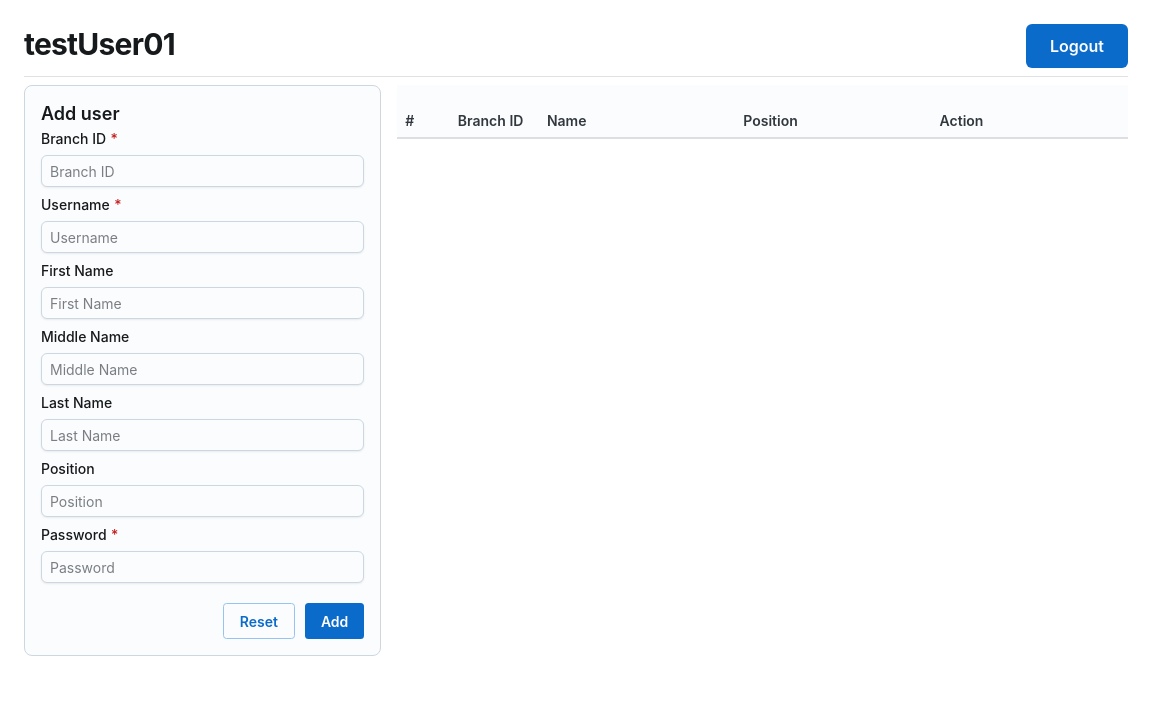
Test: <Dashboard /> › resetFields() › clear all fields
In the number field named "branchId": (203, 171) [50,156,355,186], type "20001"
In the field labelled "Username": (203, 237) [50,222,355,252], type "testuser201"
In the field named "firstName": (203, 303) [50,288,355,318], type "Jessa"
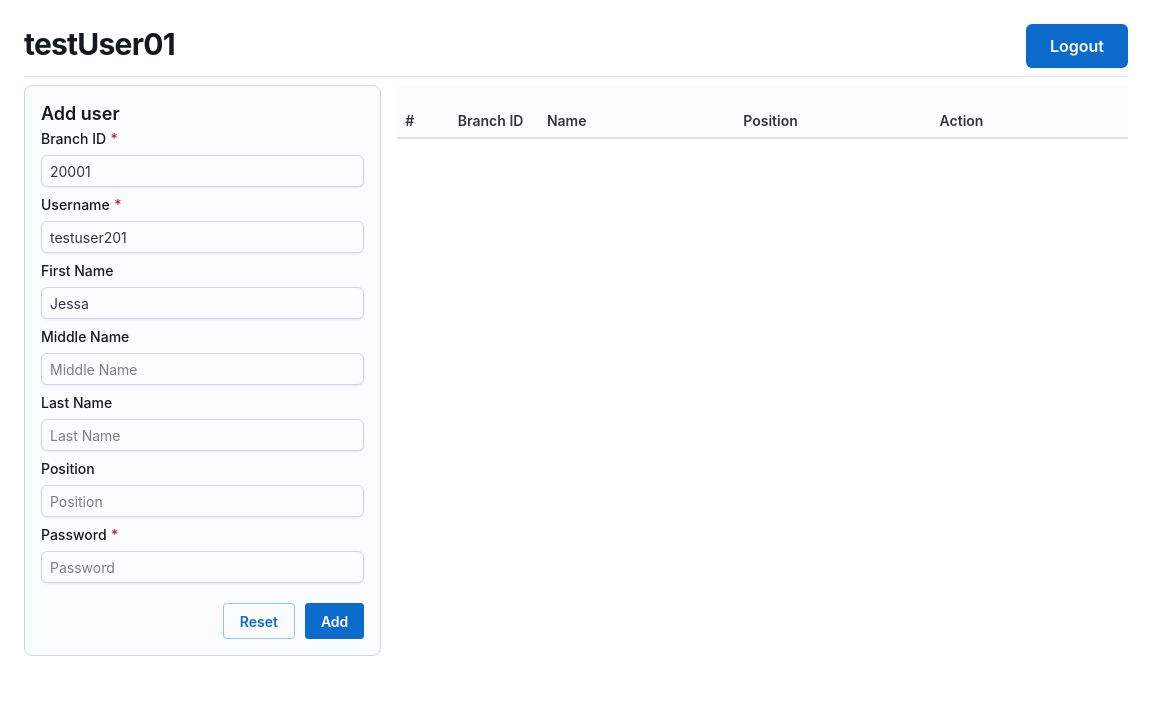
In the field named "middleName": (203, 369) [50,354,355,384], type "C"
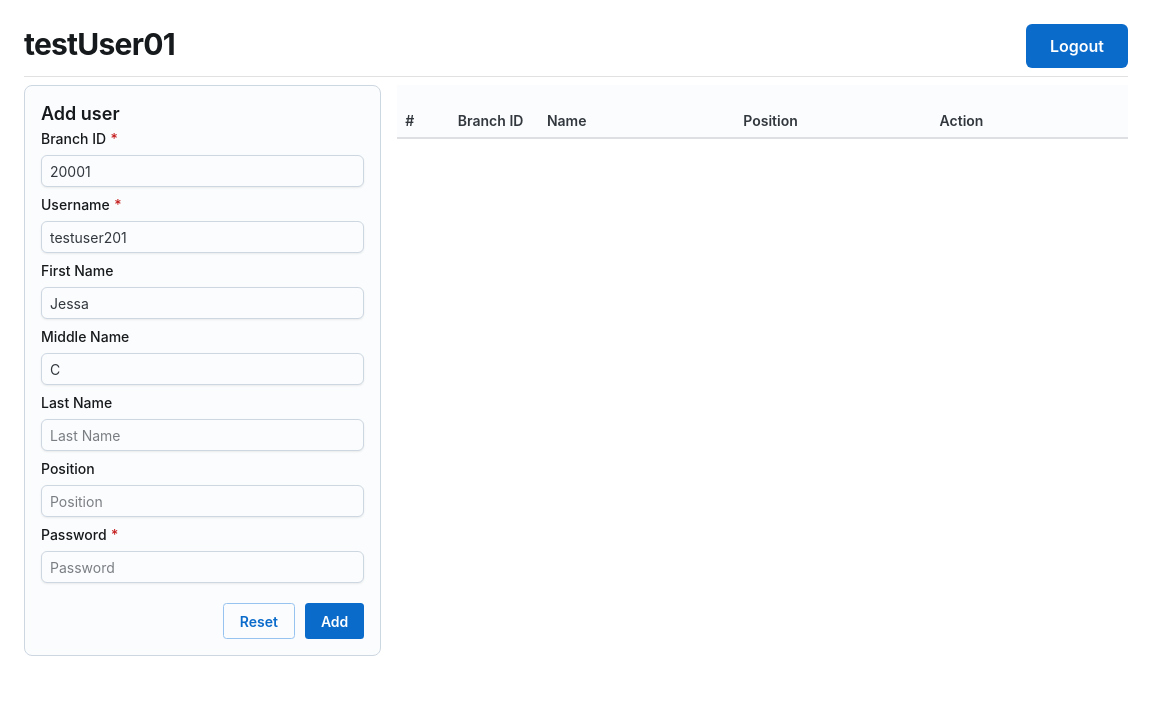
In the field named "lastName": (203, 435) [50,420,355,450], type "Meek"
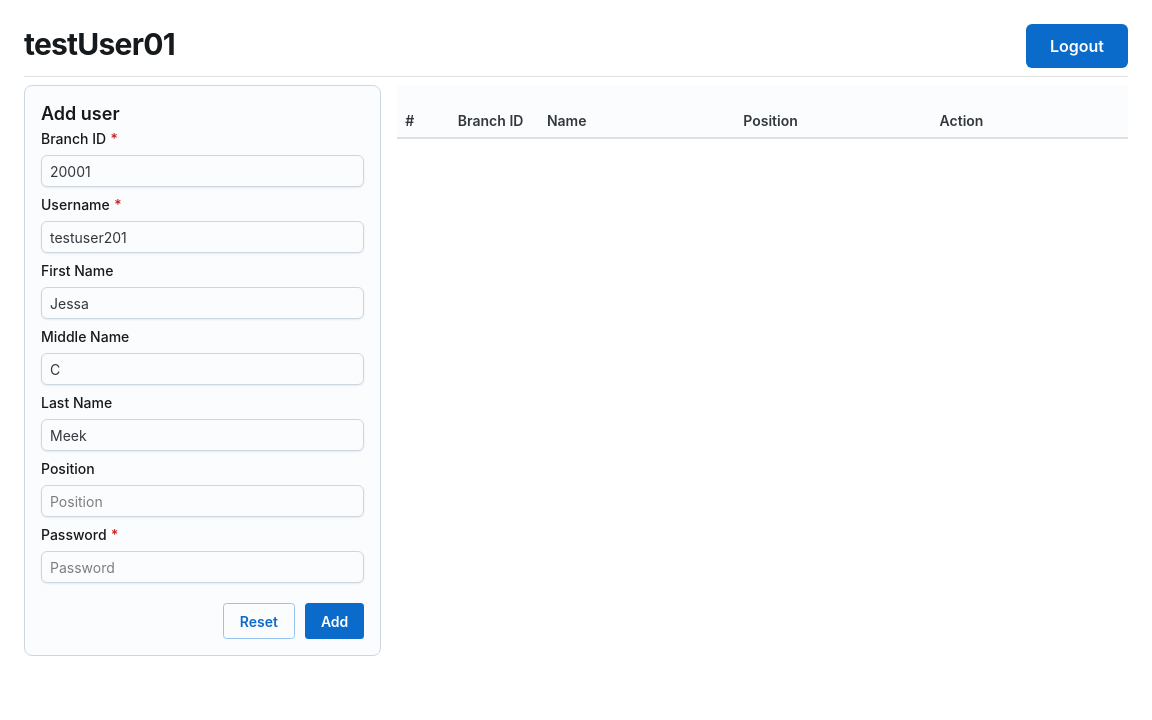
In the field labelled "Position": (203, 501) [50,486,355,516], type "Software Tester"
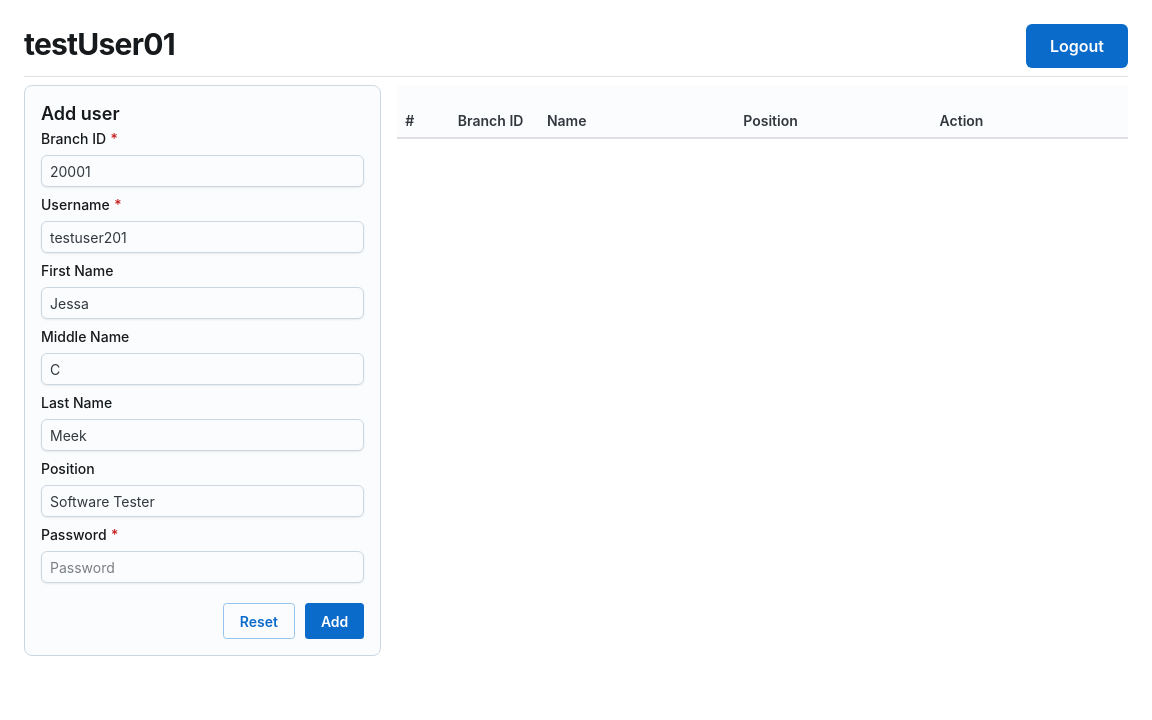
In the password field labelled "Password": (203, 567) [50,552,355,582], type "pa55w0rd001"
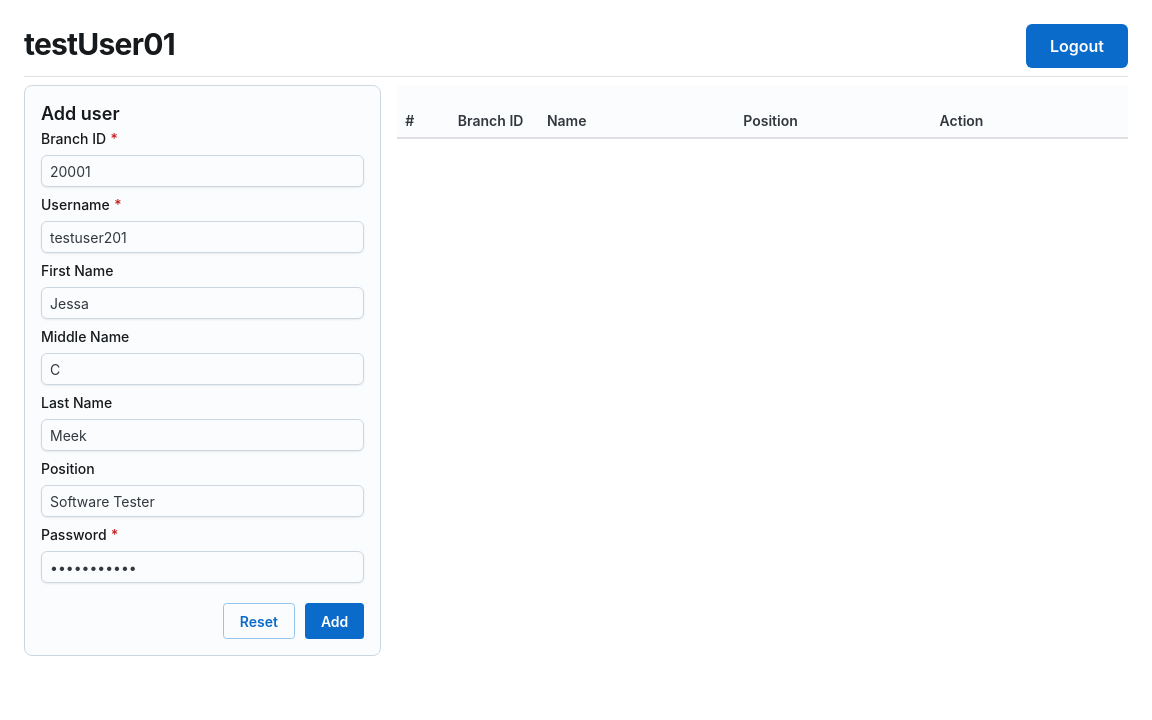
Click the button with aria-label "resetForm": (259, 621) [223,603,295,639]
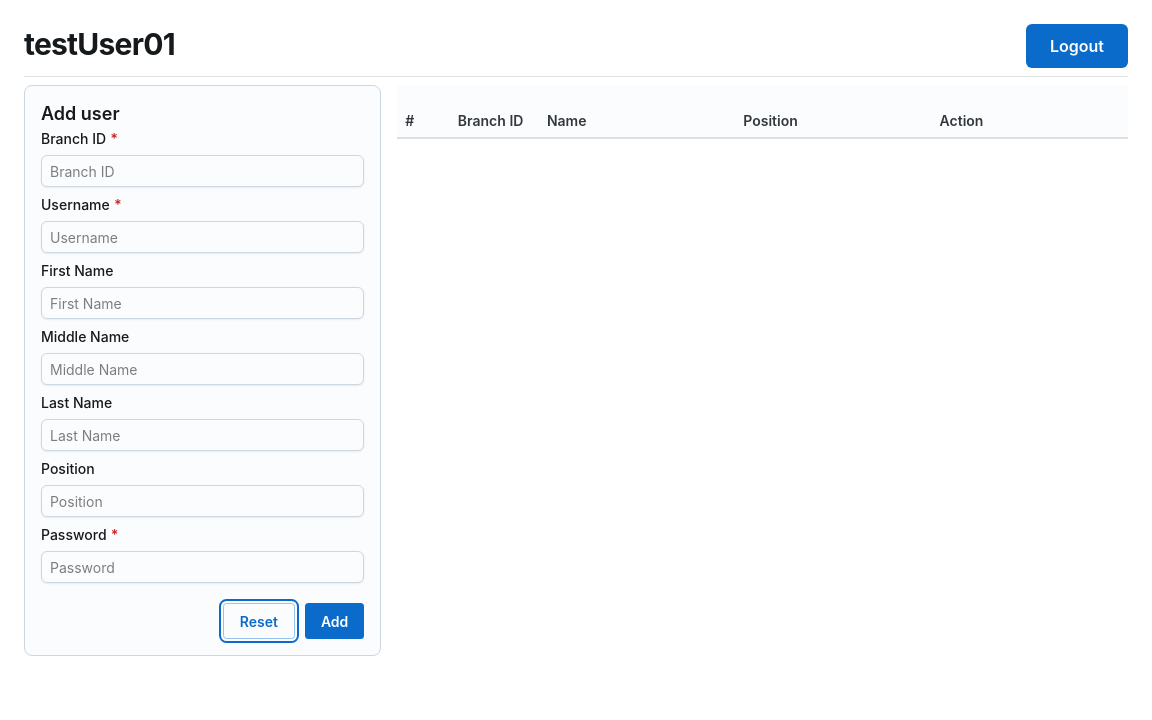
Now the number field named "branchId" is not empty, box [50,156,355,186]
Now the field labelled "Username" is empty, box [50,222,355,252]
Now the field named "firstName" is empty, box [50,288,355,318]
